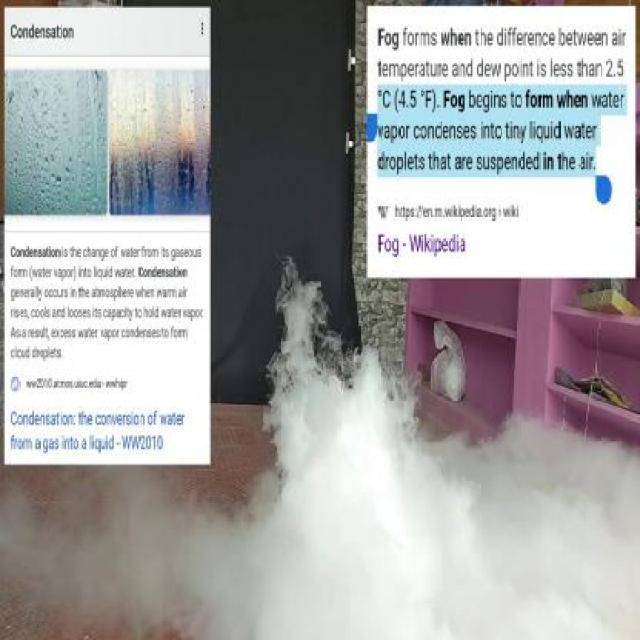smoke: (275, 247, 639, 640), (0, 474, 295, 640)
